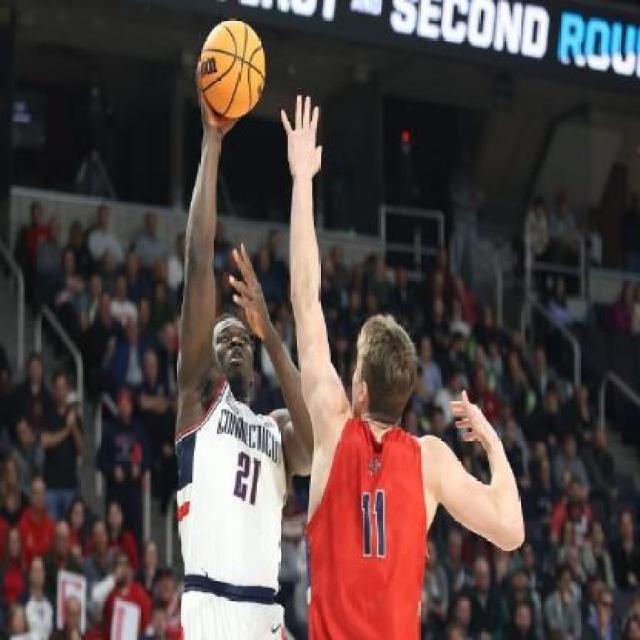Ball: (202, 15, 268, 117)
